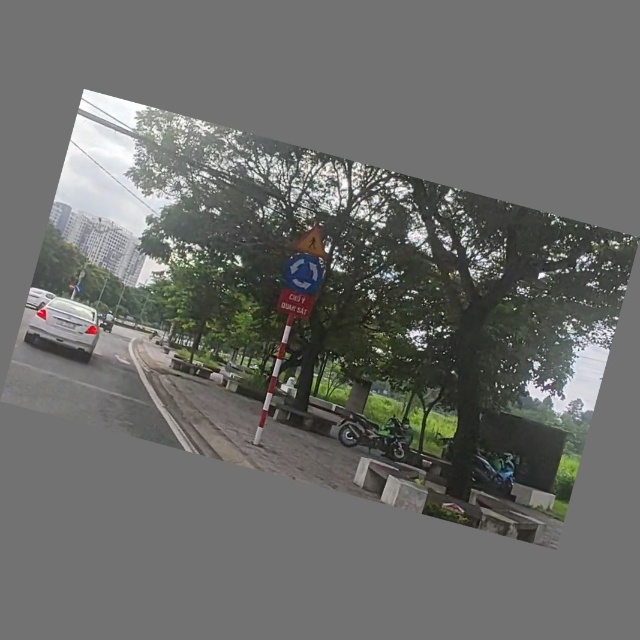P.102: (66, 282, 76, 292)
R.302a: (74, 284, 84, 295)
R.303: (281, 252, 328, 297)
W.224: (293, 222, 337, 261)
